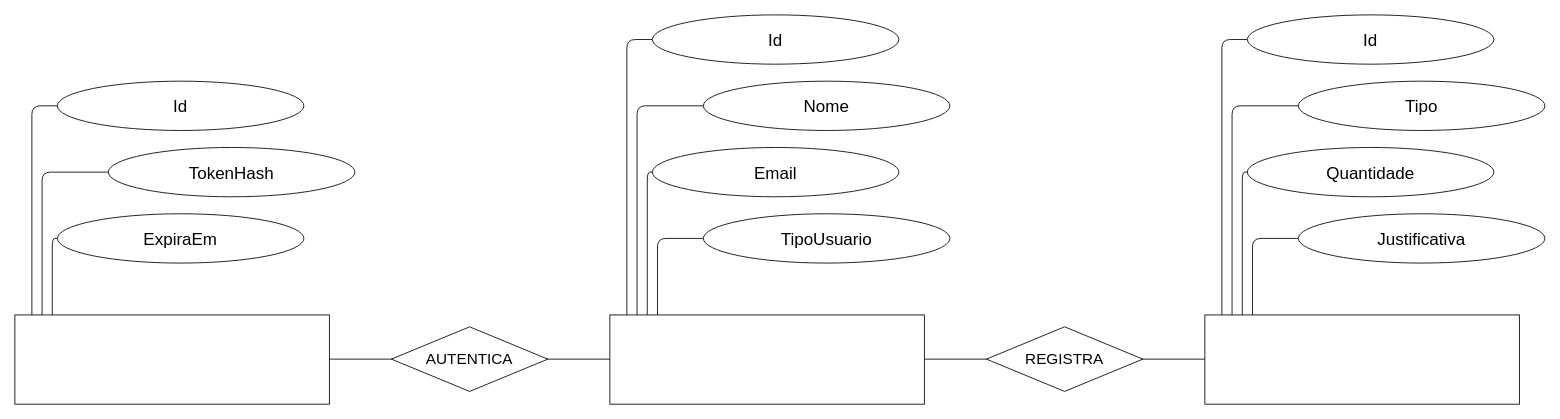
Some shapes in this 1560 by 419 pixel diagram are drawn without their labels. The shapes that lost their labels are listed below. From the top down, each one's centre as x and y in pixels, then its label:
At [171,359]: "SESSOES".
At [766,359]: "USUARIOS".
At [1361,359]: "MOVIMENTACOES".
